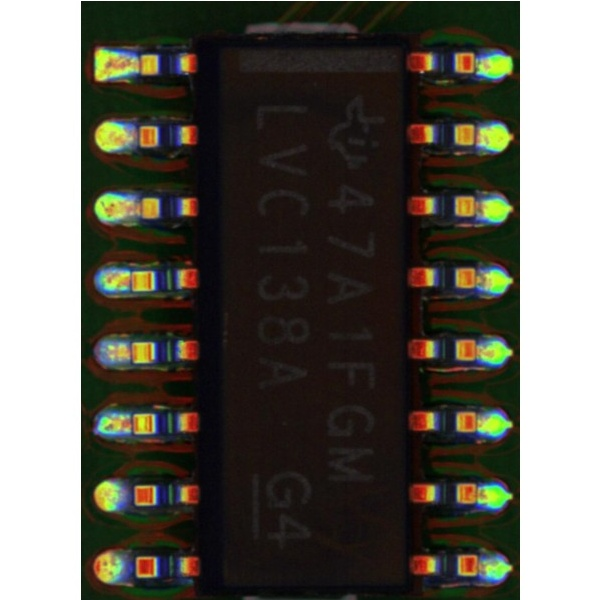Bad_podu: (116, 415, 145, 430), (117, 343, 146, 358), (116, 272, 146, 286), (126, 198, 148, 215)
